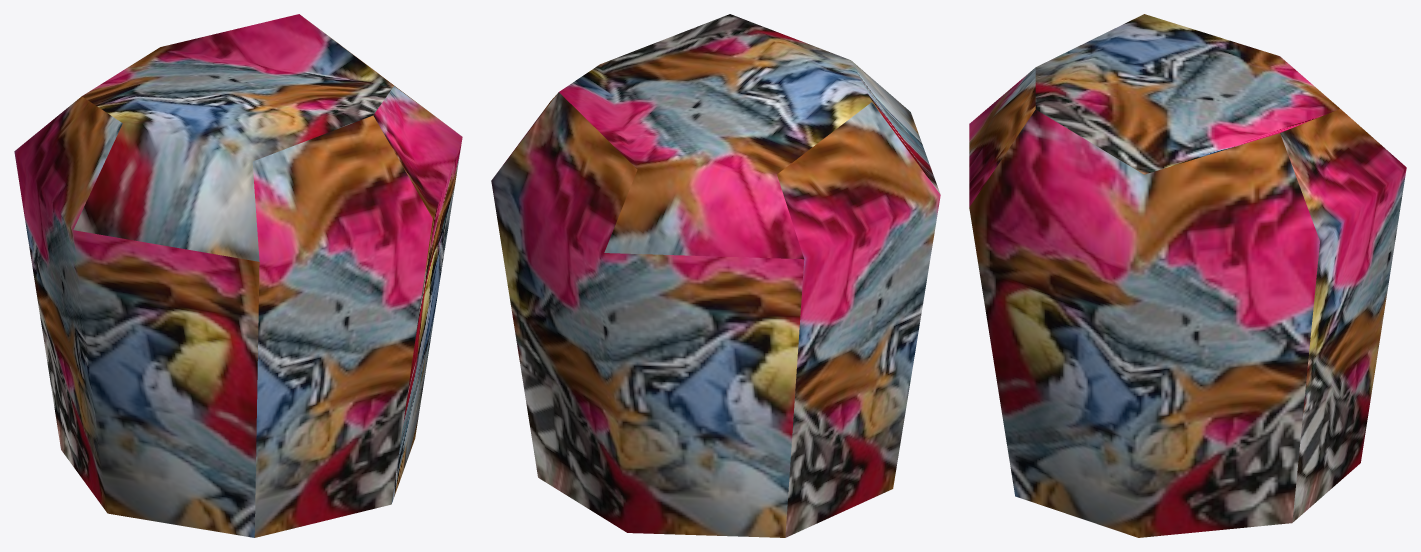
Rendered from Dirty__clothes_01-col.glb.
3 renders of one model, left to right at view 1: azimuth 30°, elevation 25°; view 2: azimuth 150°, elevation 25°; view 3: azimuth 270°, elevation 25°, orthographic.
Parts seen in each view (by area): view 1: Dirty _clothes_01-col; view 2: Dirty _clothes_01-col; view 3: Dirty _clothes_01-col.
Boxes of the visible parts, left/top/right/bottom form: Dirty _clothes_01-col: left=14, top=14, right=462, bottom=537; Dirty _clothes_01-col: left=491, top=14, right=940, bottom=537; Dirty _clothes_01-col: left=969, top=14, right=1406, bottom=537.
Size of the model in its own units: 0.7201 by 0.6781 by 0.7021.
1 material, 1 textured.
